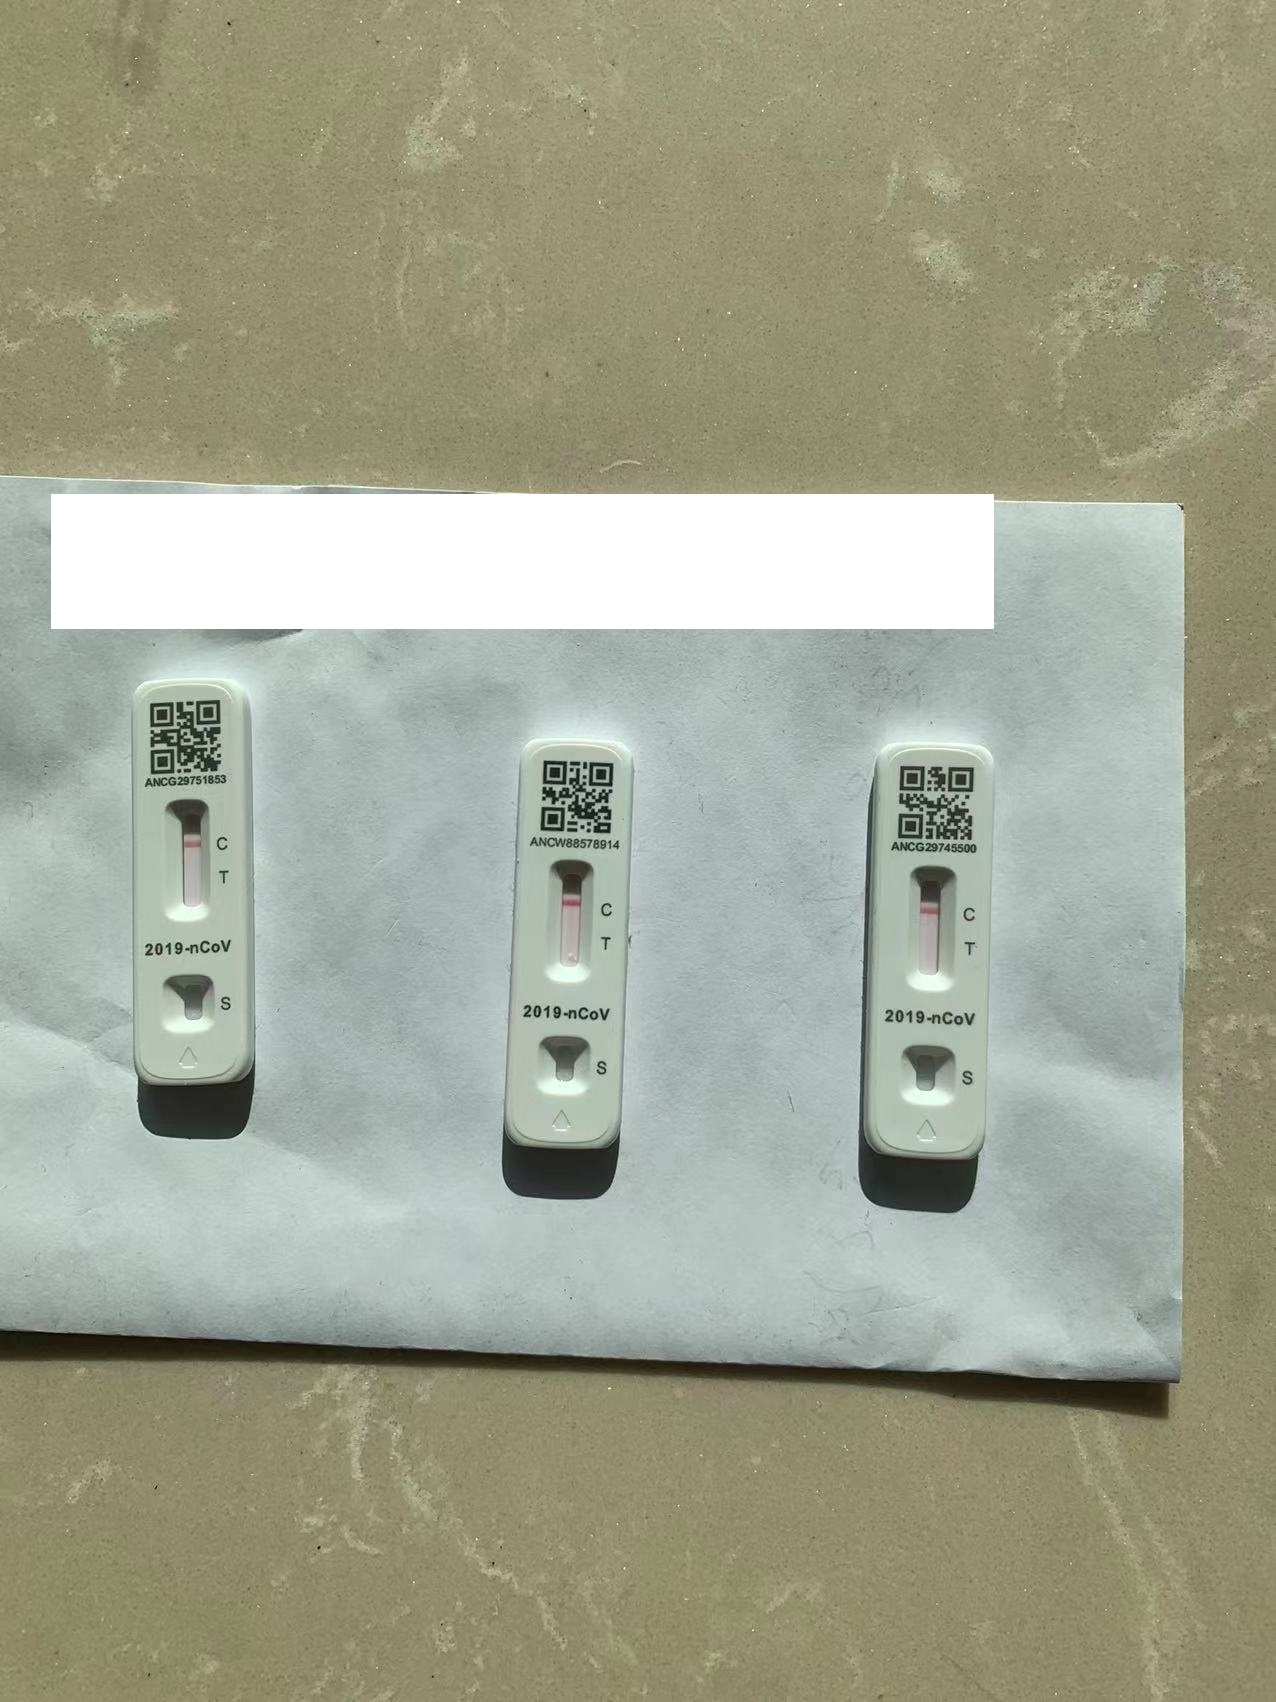negative: (907, 864, 956, 988), (162, 801, 212, 918), (546, 858, 592, 980)
